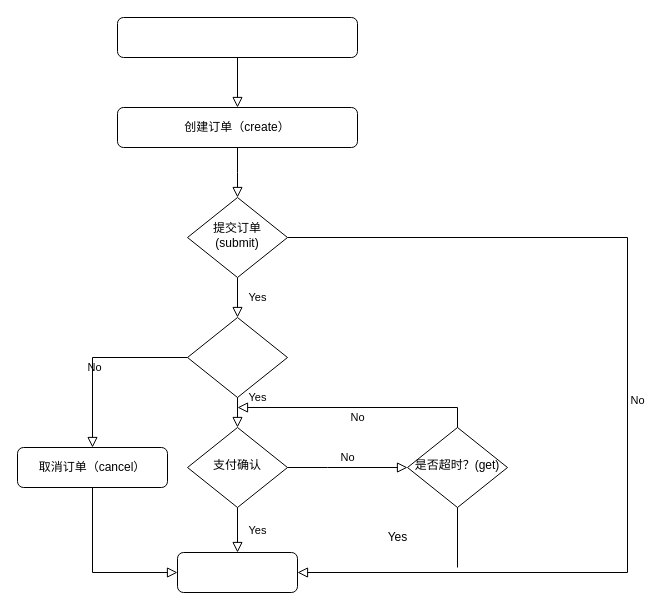
Some shapes in this 662 by 610 pixel diagram are drawn without their labels. The centre of each missing label's shape, as x and y in pixels:
开始: (237,37)
支付订单（ pay ）: (237,357)
结束: (237,572)
